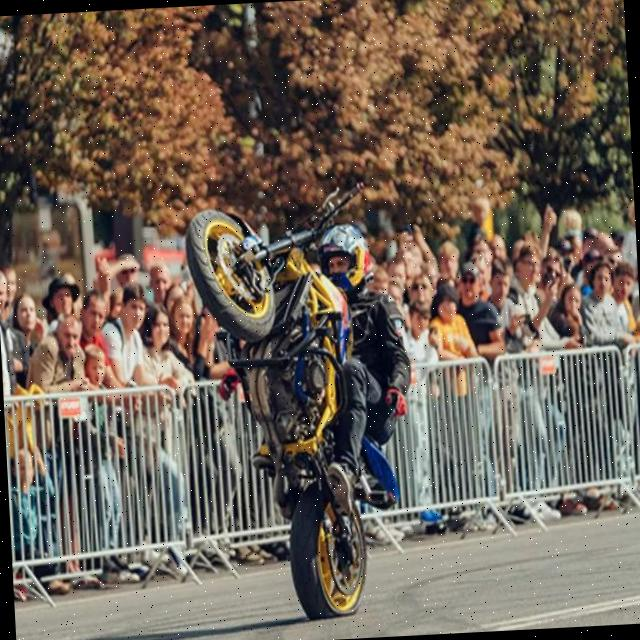Wheeling: (172, 192, 422, 626)
